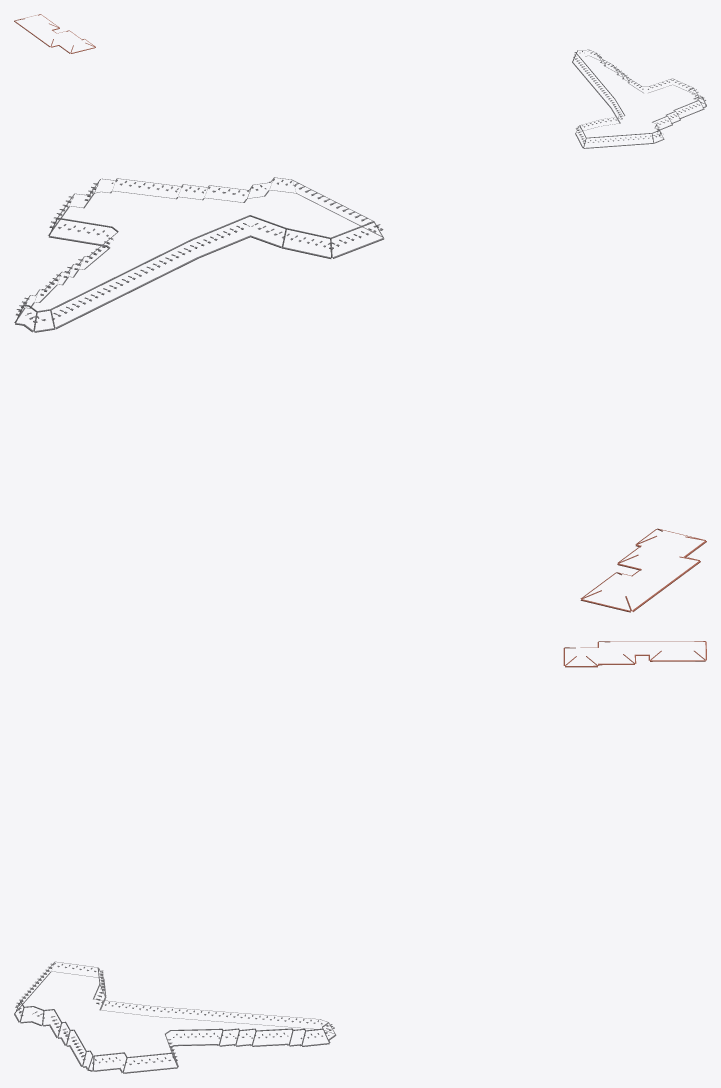
The picture shows the model from 3 angles, top to bottom: view 1: azimuth 30°, elevation 25°; view 2: azimuth 150°, elevation 25°; view 3: azimuth 270°, elevation 25°; orthographic projection. The views are drawn at different scales.
Parts seen in each view (by area): view 1: detail; view 2: detail; view 3: detail.
Part boxes in pixels (<box>): detail: <box>14,14,706,148</box>; detail: <box>14,177,706,612</box>; detail: <box>14,641,706,1073</box>.
Size of the model in its own units: 210 by 22.82 by 173.
